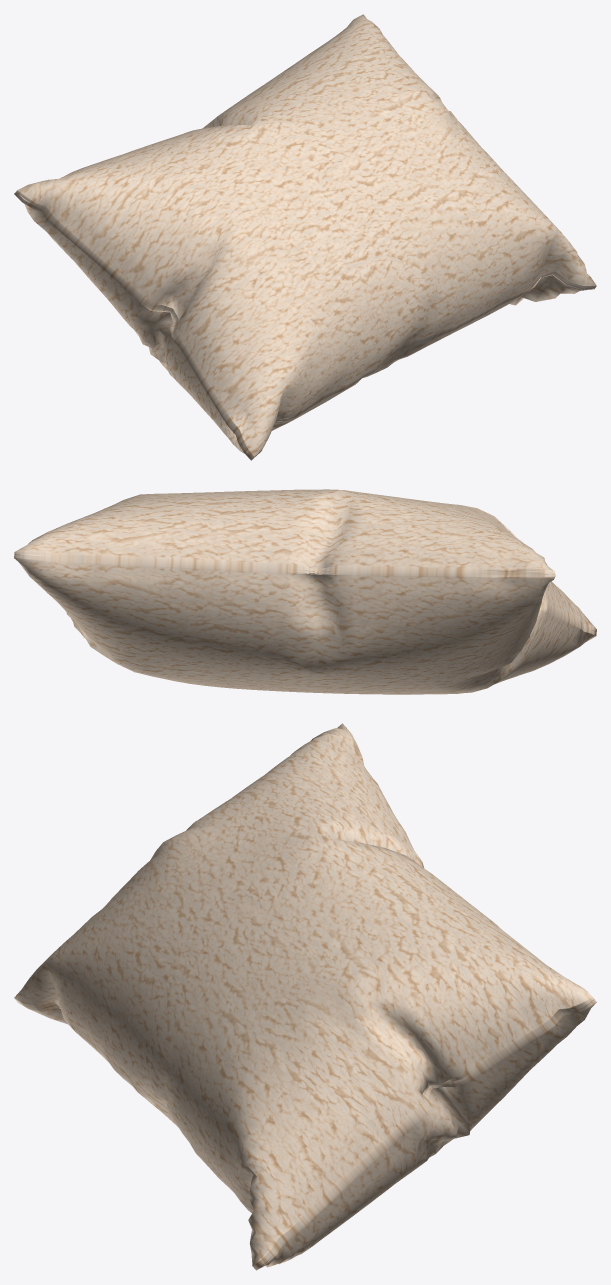
Rendered from pillowsmall.glb.
3 renders of one model, top to bottom at view 1: azimuth 30°, elevation 25°; view 2: azimuth 150°, elevation 25°; view 3: azimuth 270°, elevation 25°, orthographic. The views are drawn at different scales.
Visible parts, largest first — view 1: Plane.009; view 2: Plane.009; view 3: Plane.009.
Part boxes in pixels (x1,y1,x2,y2): Plane.009: (14, 14, 596, 460); Plane.009: (14, 489, 596, 694); Plane.009: (14, 723, 596, 1270).
Bounding box in the file's own units: 3.46 × 1.46 × 2.75.
Materials: 1 (1 with a texture image).
